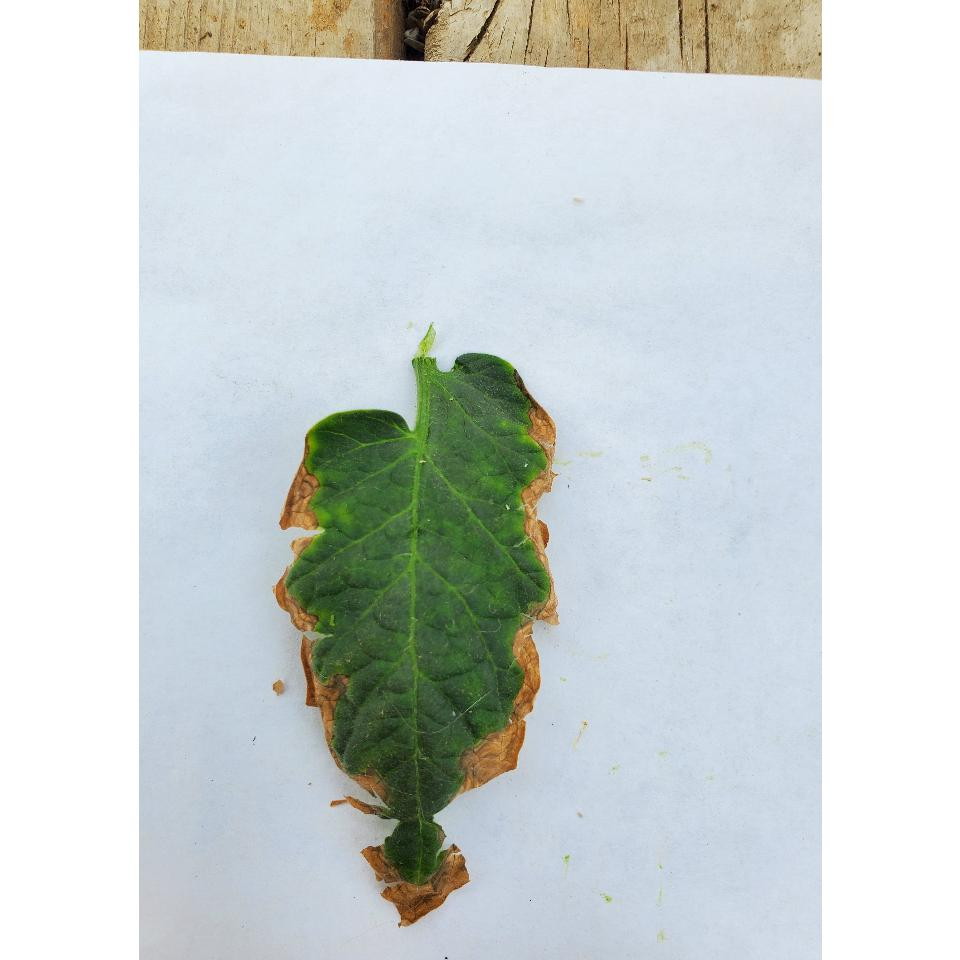tomato_bacterial_blight: (276, 328, 576, 935)
